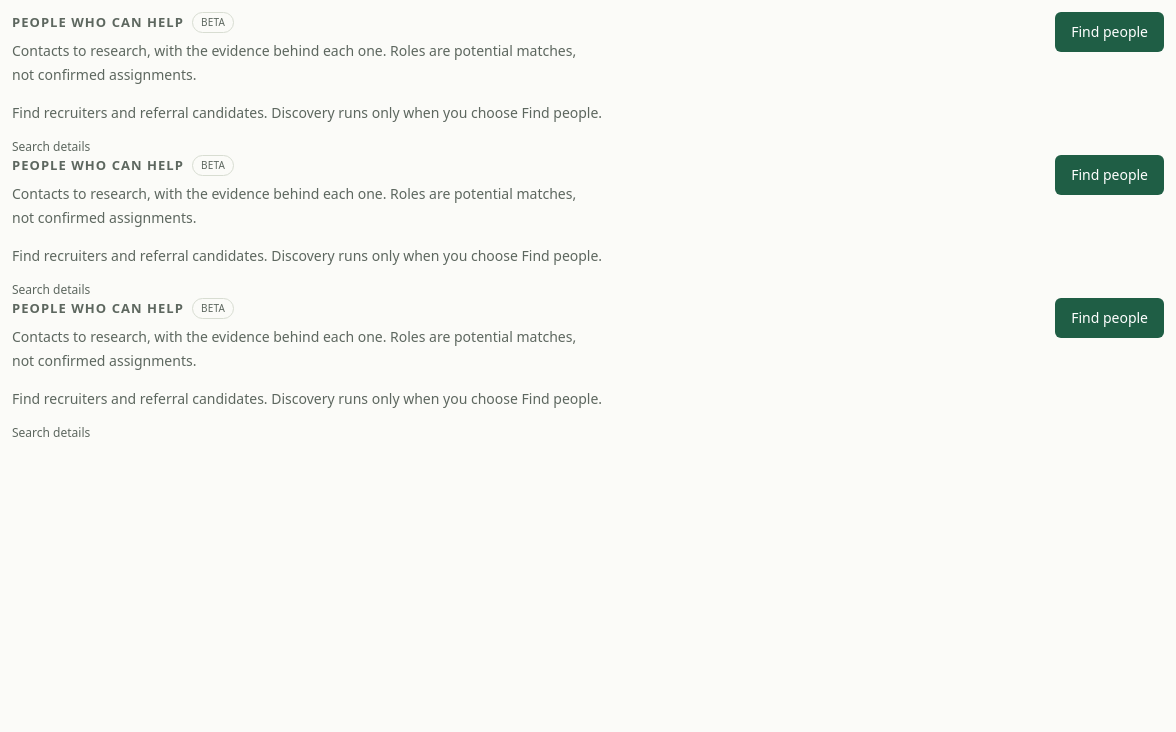
Scenario: People Who Can Help — three-company provider scenario › never shows the old catch-all paused message for a non-outage failure
Click the 1st button "Find people".
click(1110, 32)  # box [1055, 12, 1164, 52]
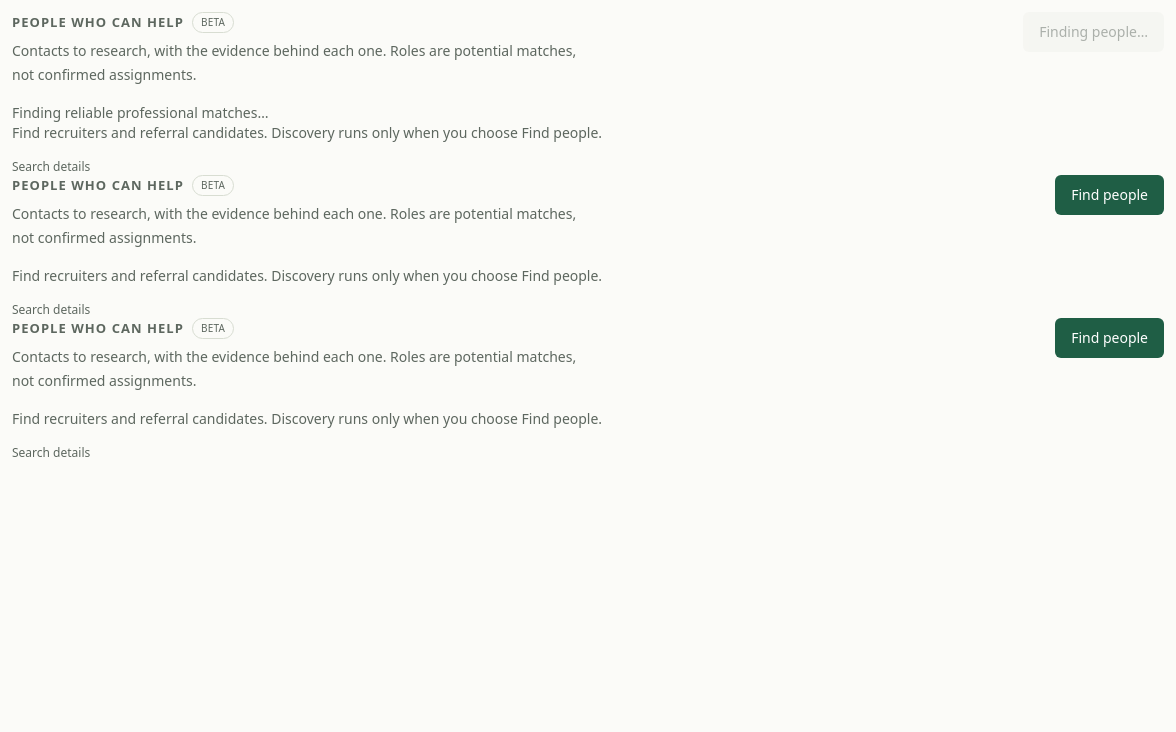
Click the 1st button "Find people".
click(1110, 195)  # box [1055, 175, 1164, 215]
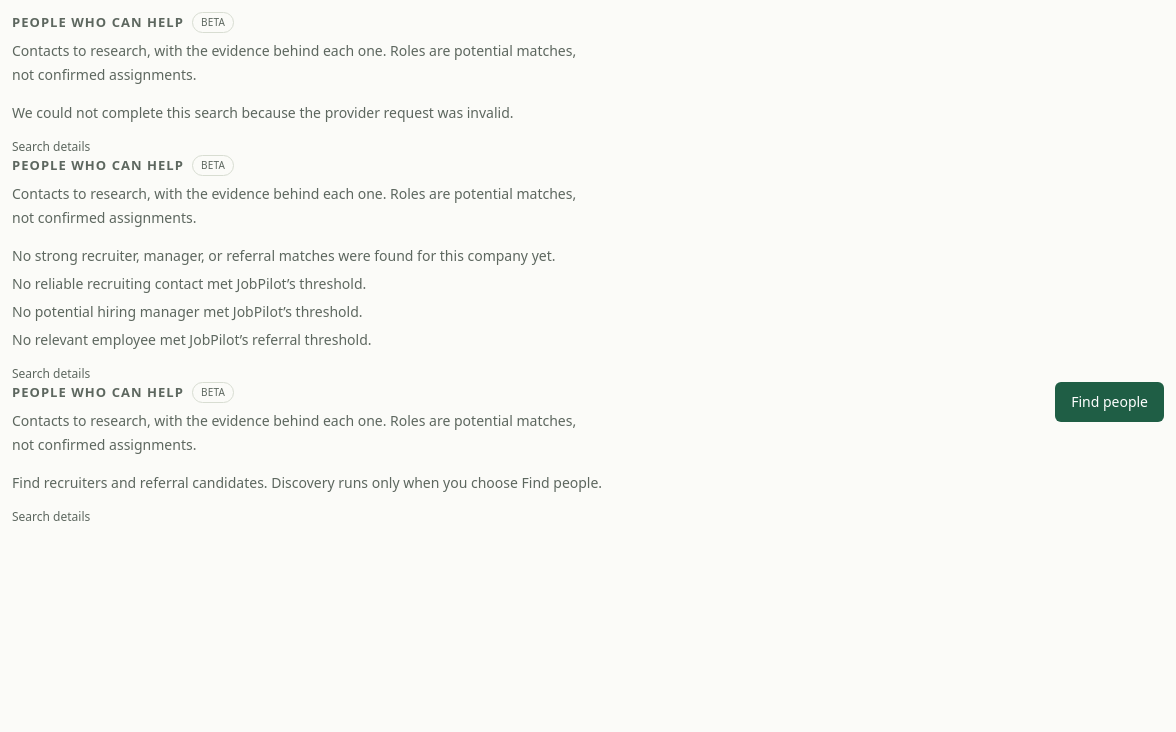
Now the text "No strong recruiter, manager, or referral matches were found for this company yet." is shown, box [12, 246, 556, 265]
